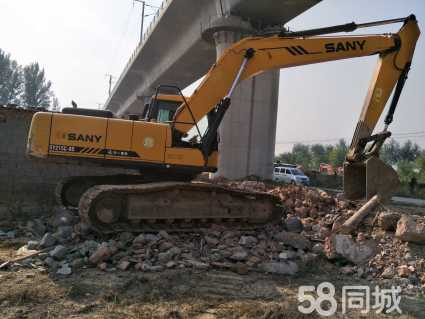excavator: (21, 11, 425, 237)
